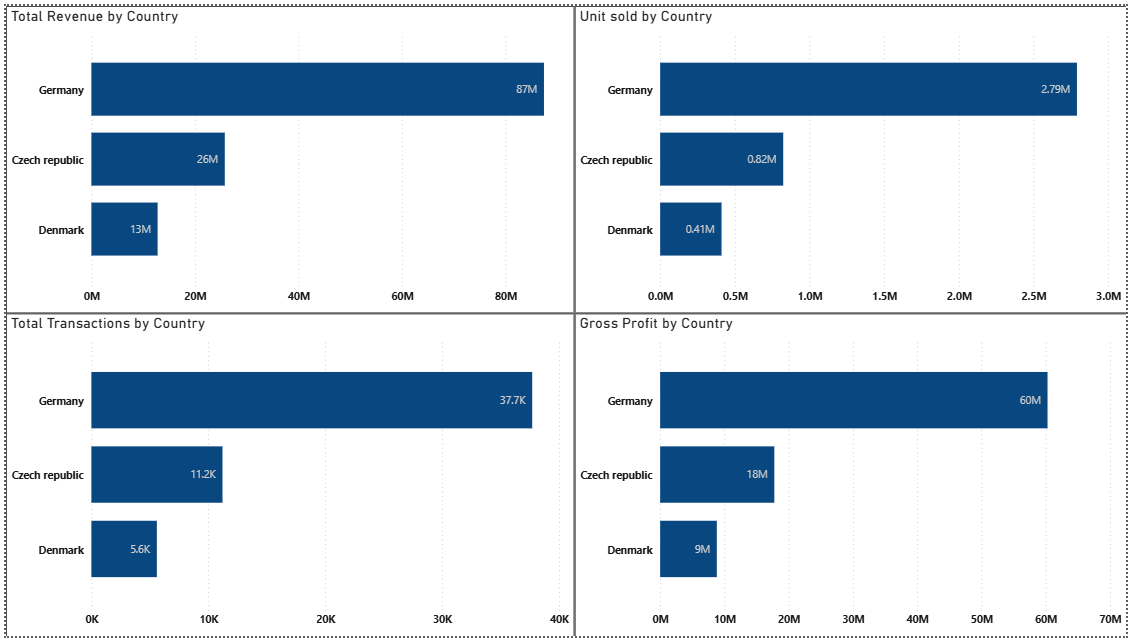

The dashboard page shown, as its layout file describes it:
{"tool":"powerbi","page":{"name":"Country & Town-wise Performance","canvas":[1280,720],"ordinal":5},"visuals":[{"type":"clusteredBarChart","title":"Unit sold by Country","fields":{"Category":["Dim.Geography.Country","Dim.Geography.Town"],"Y":["Sum(FactSales.Units)"]},"box":[649.3,0,631,351],"z":0},{"type":"clusteredBarChart","fields":{"Category":["Dim.Geography.Country","Dim.Geography.Town"],"Y":["FactSales.Total Revenue"]},"box":[0,0,649.3,351],"z":1000},{"type":"clusteredBarChart","fields":{"Category":["Dim.Geography.Country","Dim.Geography.Town"],"Y":["FactSales.Gross Profit"]},"box":[649.3,351,631,369.3],"z":2000},{"type":"clusteredBarChart","fields":{"Category":["Dim.Geography.Country","Dim.Geography.Town"],"Y":["FactSales.Total Transactions"]},"box":[0,351,649.3,369.3],"z":3000}]}

Visuals, with their boxes in screenshot pixels (x1, y1, x2, y2), scaled from the page's 1280x720 canvas onto the 1128x640 screenshot:
"Unit sold by Country" clusteredBarChart: crop(572, 0, 1127, 312)
clusteredBarChart - Dim.Geography.Country x Dim.Geography.Town: crop(0, 0, 572, 312)
clusteredBarChart - Dim.Geography.Country x Dim.Geography.Town: crop(572, 312, 1127, 639)
clusteredBarChart - Dim.Geography.Country x Dim.Geography.Town: crop(0, 312, 572, 639)
